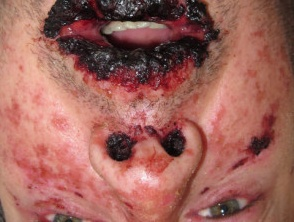SJS-TEN: (30, 0, 218, 102), (217, 103, 294, 205), (100, 115, 199, 177)
